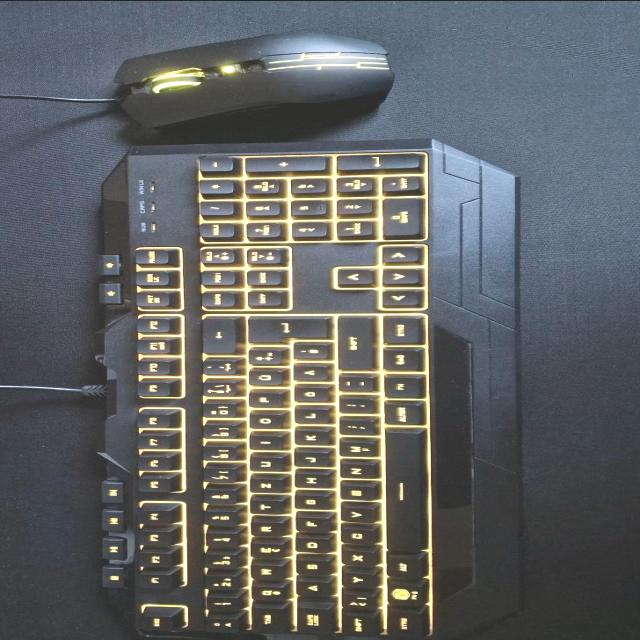0: (198, 403, 240, 419)
1: (203, 598, 241, 612)
2: (202, 577, 239, 591)
3: (201, 552, 239, 570)
4: (203, 531, 243, 549)
5: (200, 509, 240, 527)
6: (201, 488, 241, 506)
7: (198, 464, 240, 484)
8: (198, 444, 240, 462)
9: (199, 423, 239, 441)
a: (292, 582, 332, 598)
accent: (198, 358, 238, 376)
ae: (289, 364, 329, 382)
alt-left: (382, 556, 425, 579)
altgr-right: (379, 402, 423, 427)
b: (335, 480, 377, 502)
c: (336, 527, 376, 545)
caret: (204, 620, 236, 633)
comma: (334, 417, 376, 436)
d: (290, 537, 330, 553)
del: (199, 316, 237, 355)
e: (245, 543, 285, 559)
enter: (241, 317, 329, 345)
f: (292, 517, 330, 533)
g: (289, 494, 329, 510)
h: (290, 471, 330, 489)
hash: (288, 342, 328, 360)
i: (245, 434, 283, 451)
j: (289, 451, 329, 468)
k: (289, 429, 329, 447)
keyboard: (96, 138, 527, 640)
l: (289, 407, 329, 425)
less: (338, 595, 374, 612)
m: (334, 438, 376, 458)
minus: (334, 375, 374, 393)
n: (335, 460, 377, 480)
o: (245, 412, 283, 430)
oe: (289, 385, 329, 403)
p: (245, 391, 283, 409)
plus: (244, 348, 284, 366)
point: (334, 396, 374, 414)
q: (248, 586, 286, 602)
r: (247, 519, 285, 537)
s: (292, 558, 330, 576)
shift-left: (337, 615, 379, 637)
shift-lock: (294, 605, 334, 635)
shift-right: (333, 316, 373, 372)
space: (381, 431, 426, 553)
ss: (198, 379, 241, 399)
strg-left: (383, 611, 428, 639)
strg-right: (378, 314, 422, 346)
t: (245, 498, 285, 515)
tab: (246, 608, 289, 634)
u: (244, 455, 284, 473)
ue: (244, 369, 282, 386)
v: (335, 504, 375, 524)
w: (247, 565, 285, 583)
x: (337, 550, 377, 566)
y: (339, 572, 377, 589)
z: (245, 476, 285, 494)
